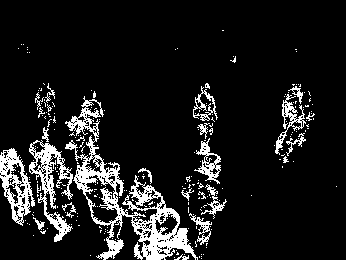person: (25, 138, 79, 242), (74, 152, 125, 260), (180, 151, 229, 255), (120, 166, 167, 241), (133, 208, 197, 260), (1, 147, 34, 230), (62, 114, 101, 181), (282, 90, 316, 164), (271, 82, 300, 154), (190, 82, 219, 152), (32, 78, 57, 141), (81, 89, 105, 139)
